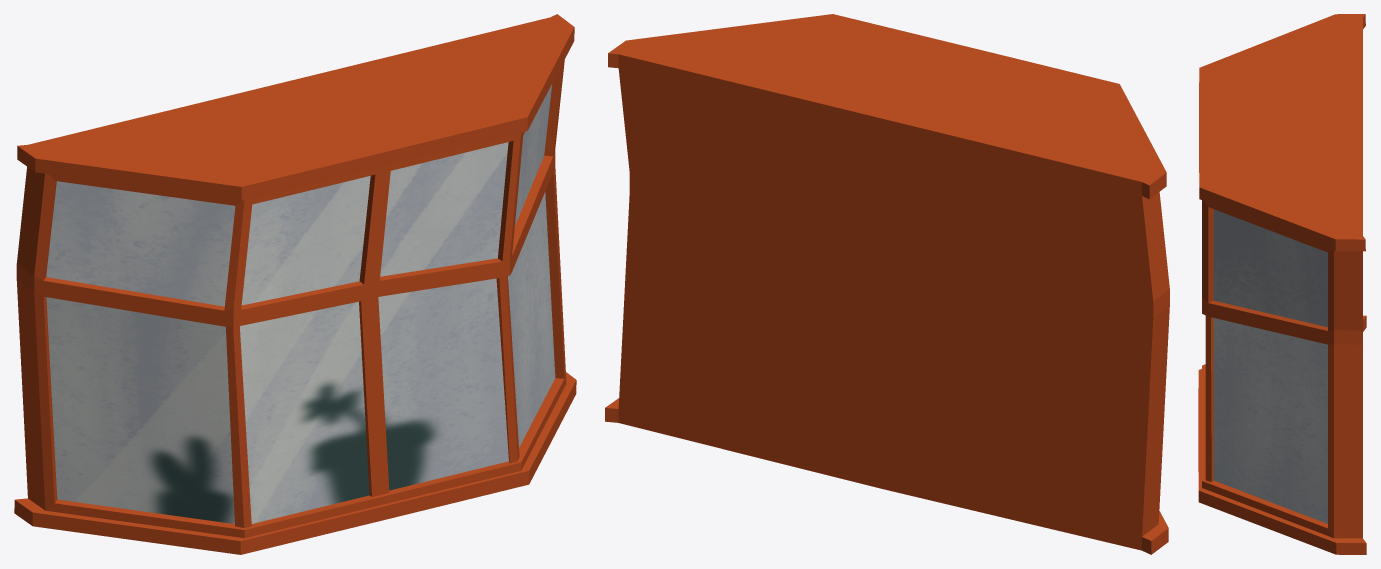
The model's file is Window9.fbx.
3 renders of one model, left to right at view 1: azimuth 30°, elevation 25°; view 2: azimuth 150°, elevation 25°; view 3: azimuth 270°, elevation 25°, orthographic. The views are drawn at different scales.
Visible parts, largest first — view 1: Cylinder; view 2: Cylinder; view 3: Cylinder.
Boxes of the visible parts, x1,y1,x2,y2 form: Cylinder: (14, 14, 576, 554); Cylinder: (605, 14, 1169, 554); Cylinder: (1198, 14, 1366, 554).
Bounding box in the file's own units: 195 × 126 × 60.86.
